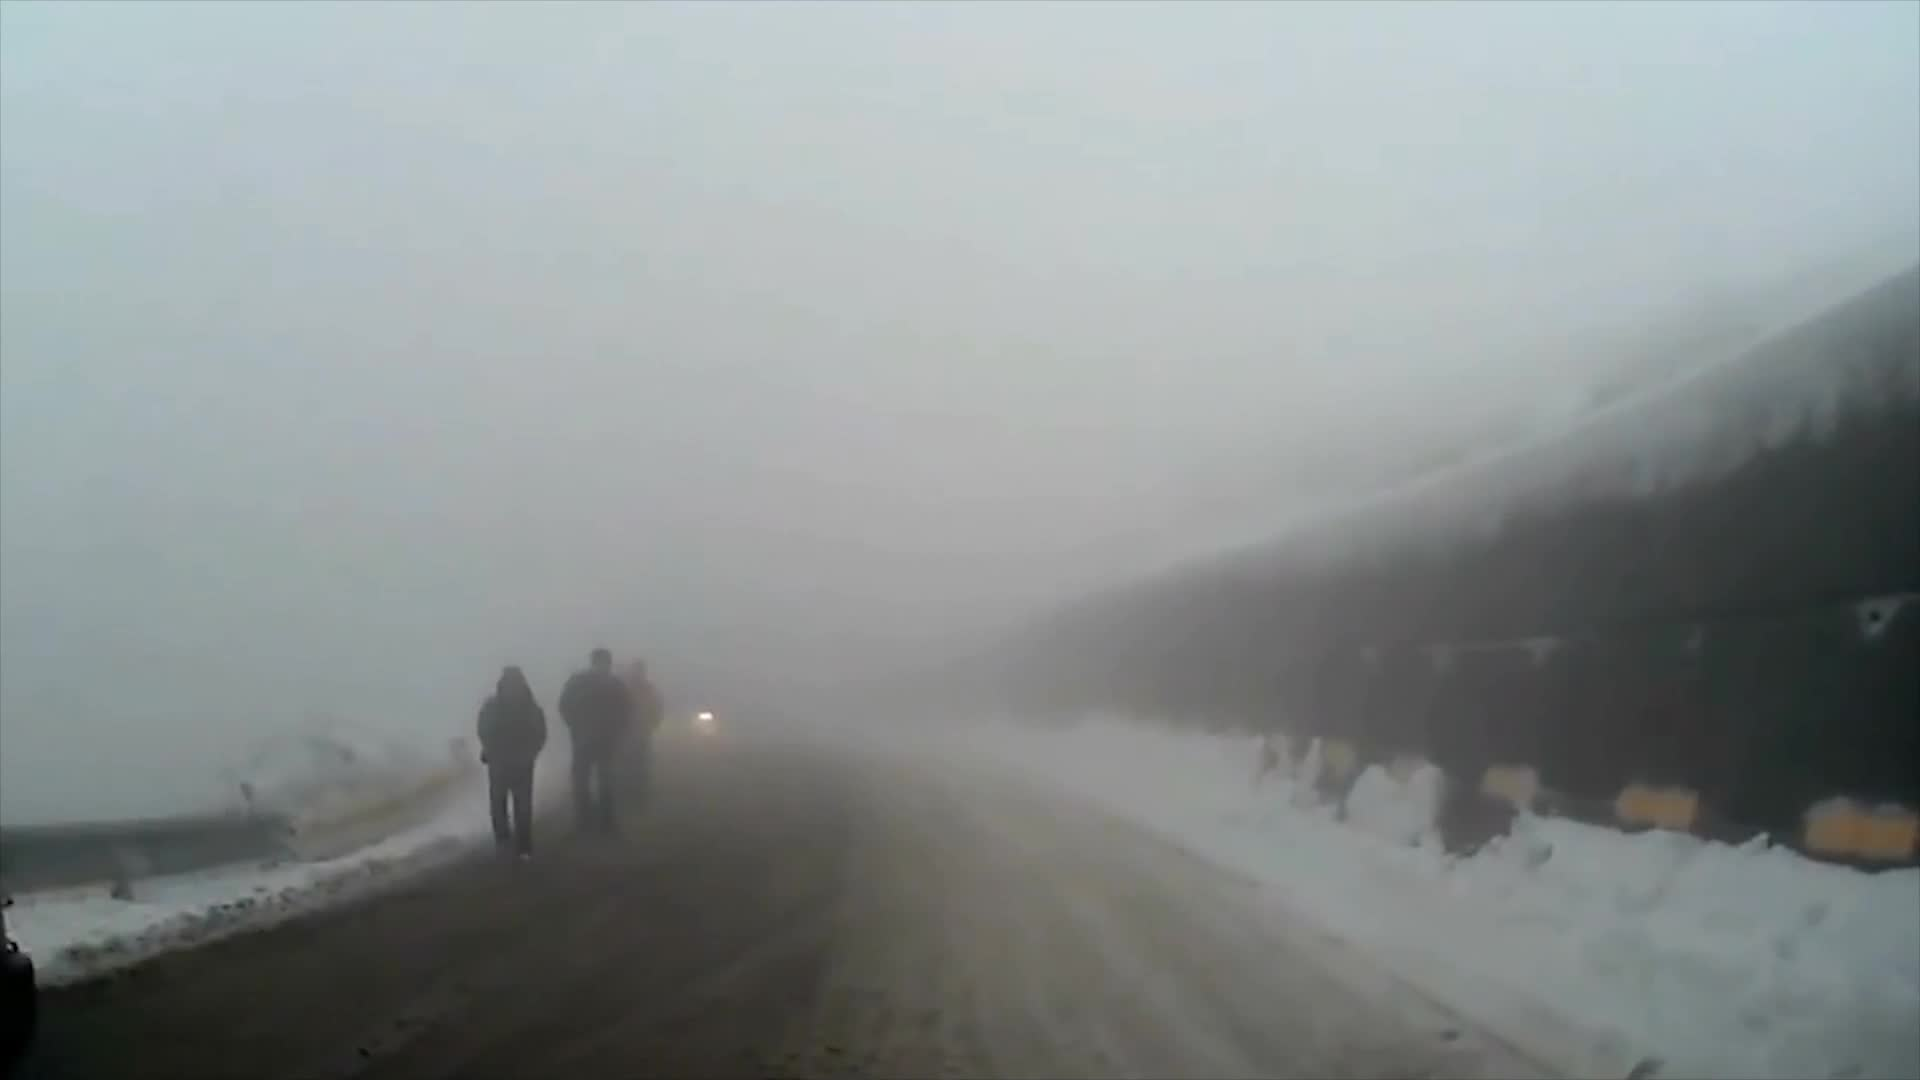pedestrian: (471, 663, 553, 866), (559, 648, 633, 836), (611, 655, 666, 820)
